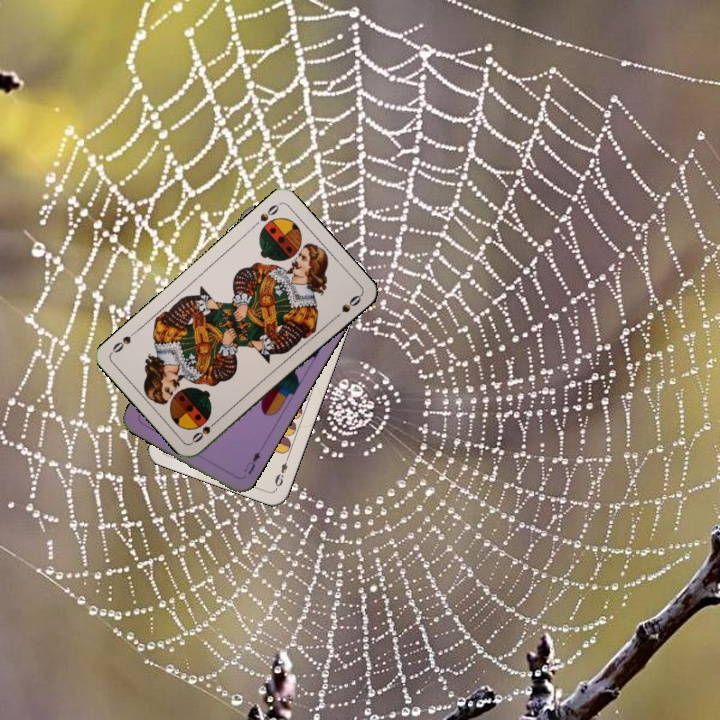E9: (271, 452, 292, 489)
EU: (240, 447, 263, 477)
SO: (188, 415, 222, 446), (248, 199, 282, 230)
